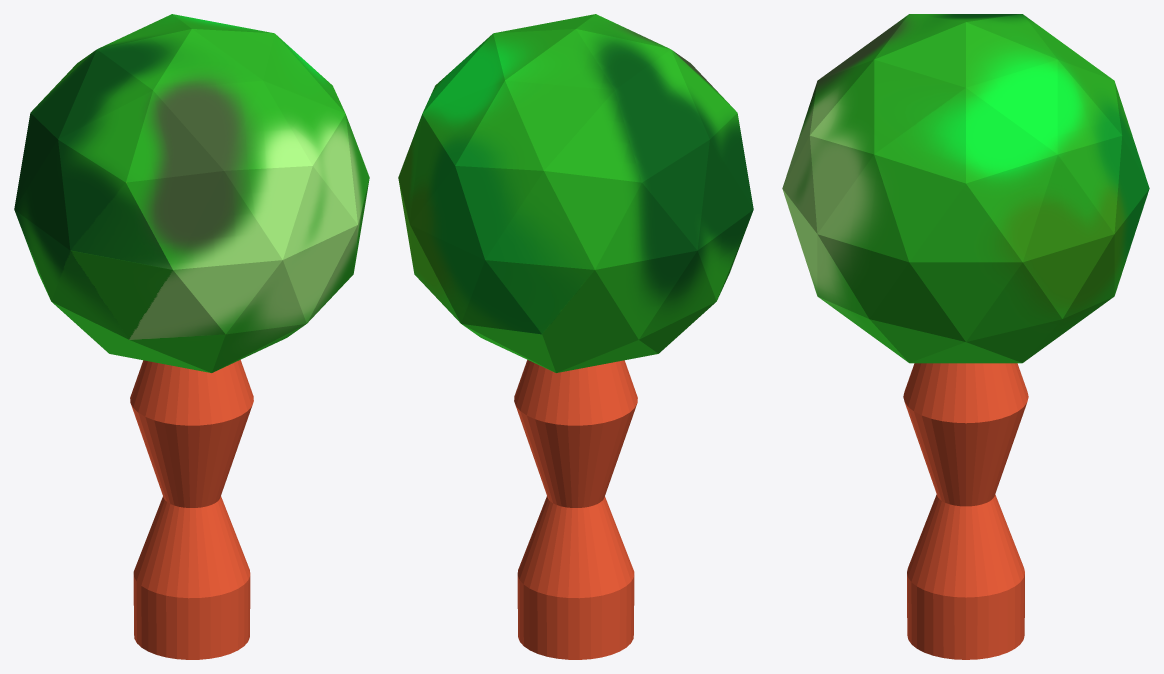
File: tree.glb
The picture shows the model from 3 angles, left to right: view 1: azimuth 30°, elevation 25°; view 2: azimuth 150°, elevation 25°; view 3: azimuth 270°, elevation 25°; orthographic projection.
Parts seen in each view (by area): view 1: Икосфера, Цилиндр; view 2: Икосфера, Цилиндр; view 3: Икосфера, Цилиндр.
Boxes of the visible parts, x1,y1,x2,y2 form: Икосфера: [14, 14, 369, 372]; Цилиндр: [130, 360, 253, 659]; Икосфера: [398, 14, 753, 372]; Цилиндр: [514, 360, 637, 659]; Икосфера: [782, 14, 1149, 363]; Цилиндр: [903, 363, 1028, 659].
Bounding box in the file's own units: 5.95 × 11.52 × 6.26.
2 materials, 2 textured.
